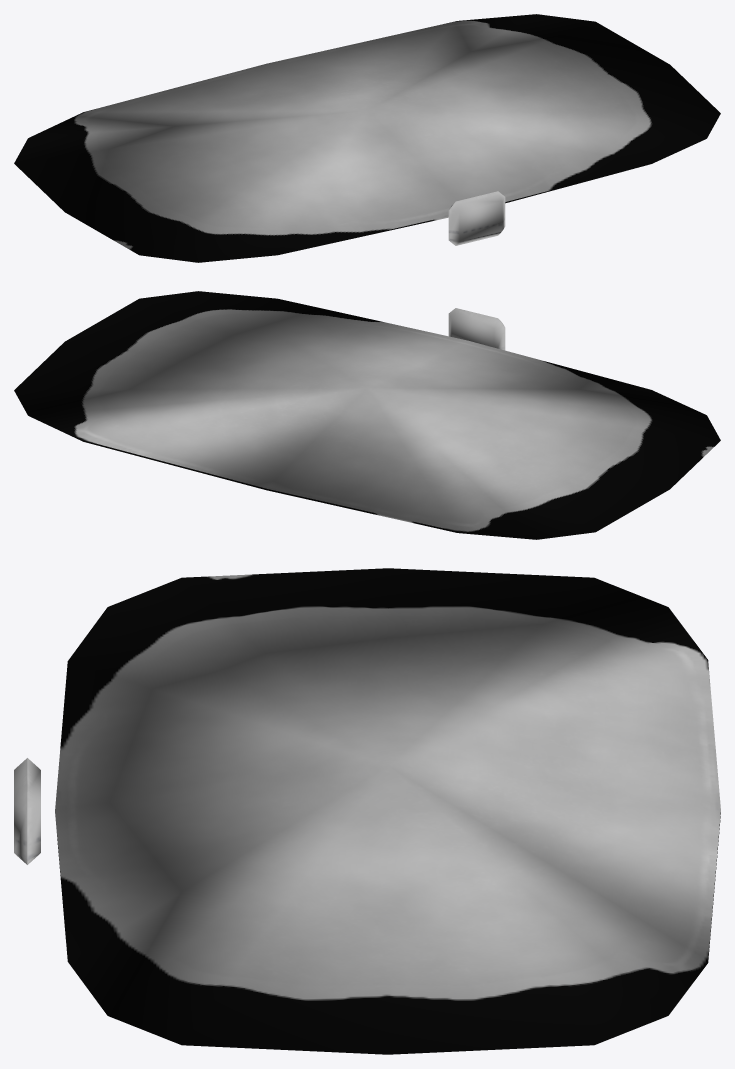
The model's file is LowerTorso_C2.fbx.
3 views of the same model, one above another, from view 1: azimuth 30°, elevation 25°; view 2: azimuth 150°, elevation 25°; view 3: azimuth 270°, elevation 25° (orthographic). The views are drawn at different scales.
Visible parts, largest first — view 1: Civ_PantalonVestir_LowerTorso_C2; view 2: Civ_PantalonVestir_LowerTorso_C2; view 3: Civ_PantalonVestir_LowerTorso_C2.
Part boxes in pixels (bbox=[...]): Civ_PantalonVestir_LowerTorso_C2: bbox=[14, 14, 720, 262]; Civ_PantalonVestir_LowerTorso_C2: bbox=[14, 291, 720, 539]; Civ_PantalonVestir_LowerTorso_C2: bbox=[14, 568, 720, 1054].
Size of the model in its own units: 2.29 by 0.2 by 1.4.
